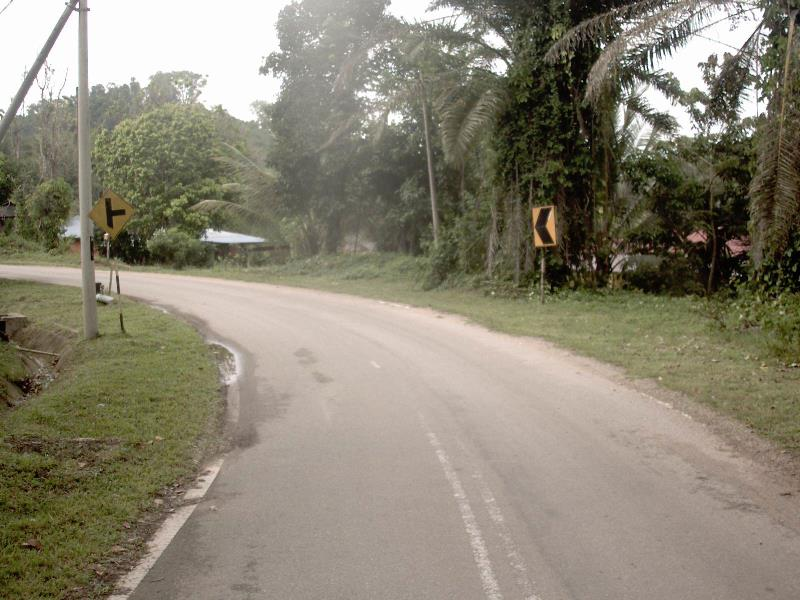traffic_sign: (83, 187, 136, 240), (524, 194, 564, 254)
